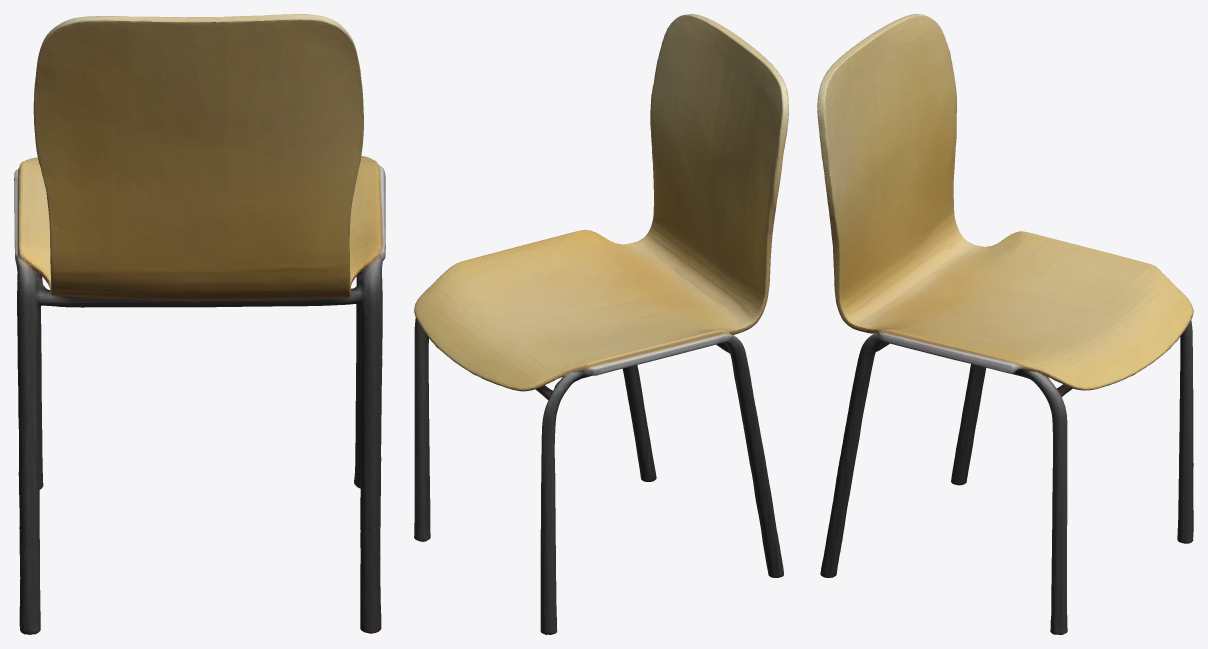
Rendered from light-colored_wooden_chair_at_middle_row_left_table_(left)_000.glb.
3 renders of one model, left to right at view 1: azimuth 30°, elevation 25°; view 2: azimuth 150°, elevation 25°; view 3: azimuth 270°, elevation 25°, orthographic. The views are drawn at different scales.
Parts seen in each view (by area): view 1: phase2_final_light-colored_wooden_chair_at_middle_row_left_t; view 2: phase2_final_light-colored_wooden_chair_at_middle_row_left_t; view 3: phase2_final_light-colored_wooden_chair_at_middle_row_left_t.
Part boxes in pixels (<box>): phase2_final_light-colored_wooden_chair_at_middle_row_left_t: <box>14,14,385,634</box>; phase2_final_light-colored_wooden_chair_at_middle_row_left_t: <box>414,14,788,634</box>; phase2_final_light-colored_wooden_chair_at_middle_row_left_t: <box>817,14,1193,634</box>.
Size of the model in its own units: 0.32 by 0.4626 by 0.3272.
Materials: 1 (1 with a texture image).
